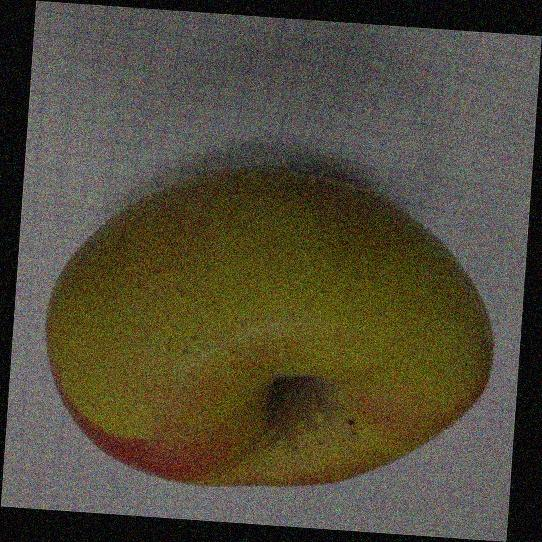green apple: (40, 153, 484, 491)
